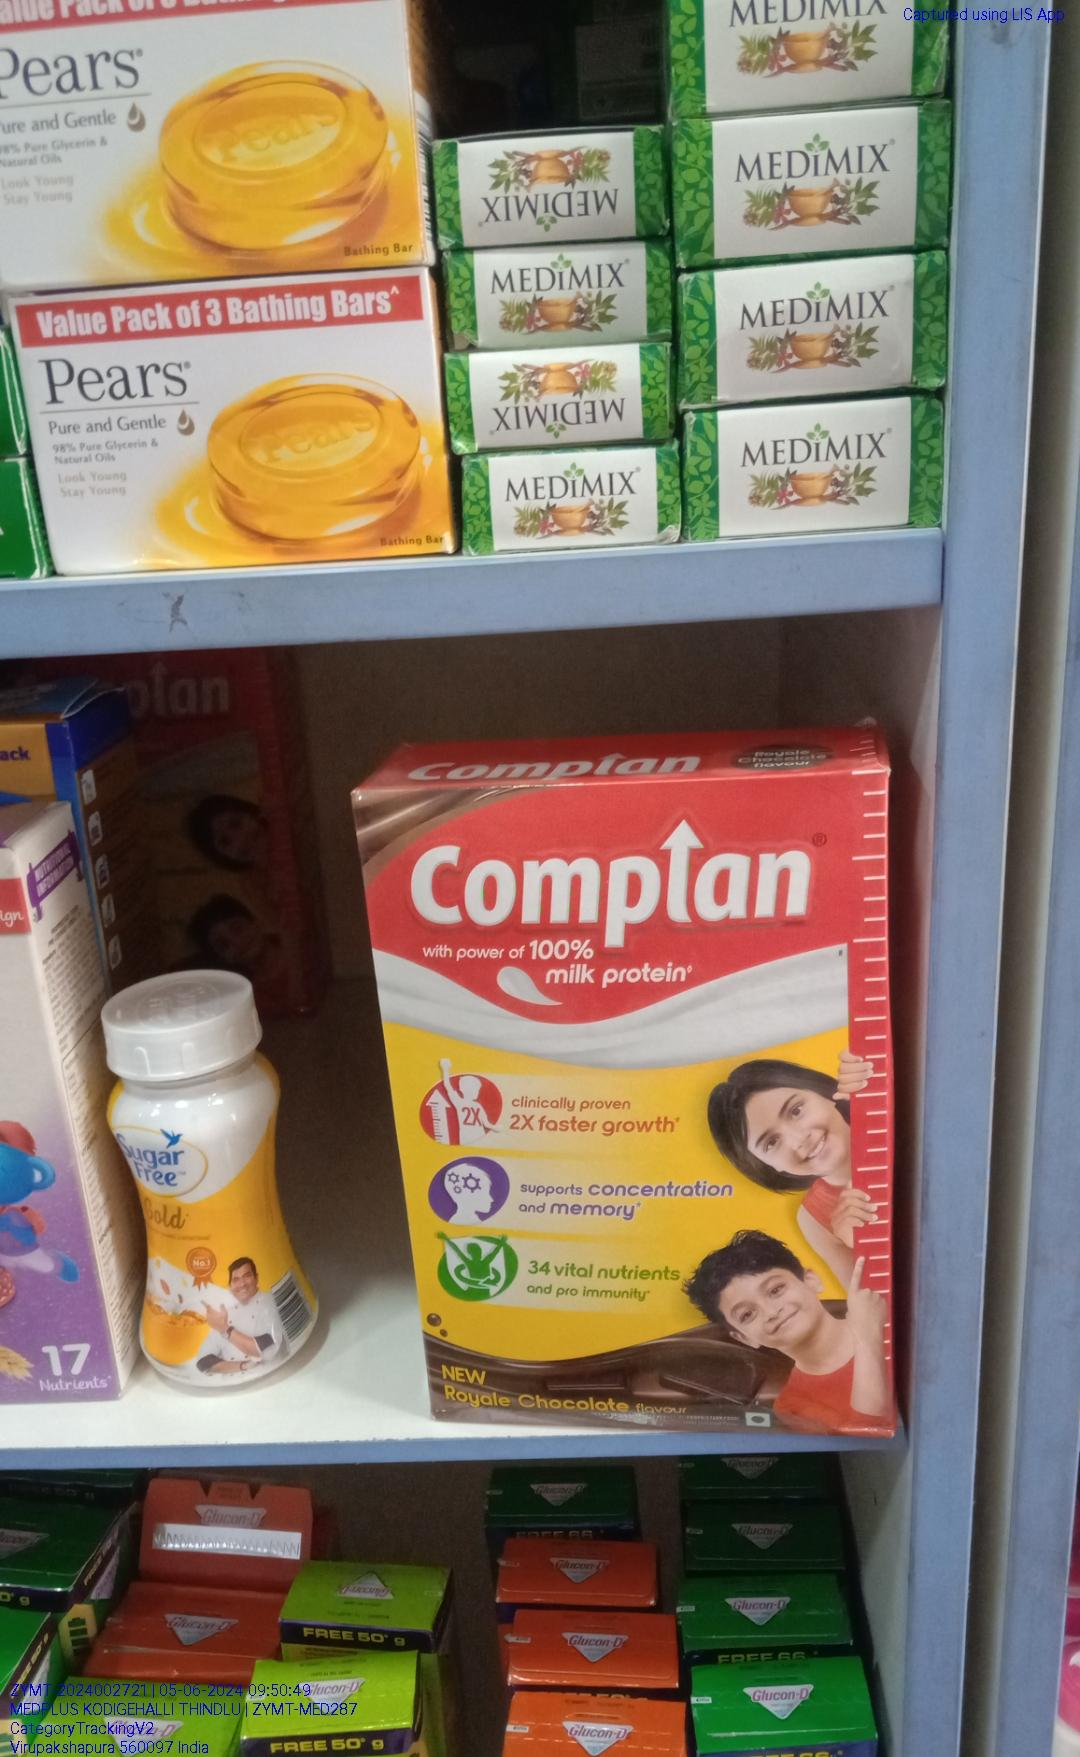COMPLAN_CHOCOLATE_500_GMS_PACK: (405, 781, 894, 1424)
